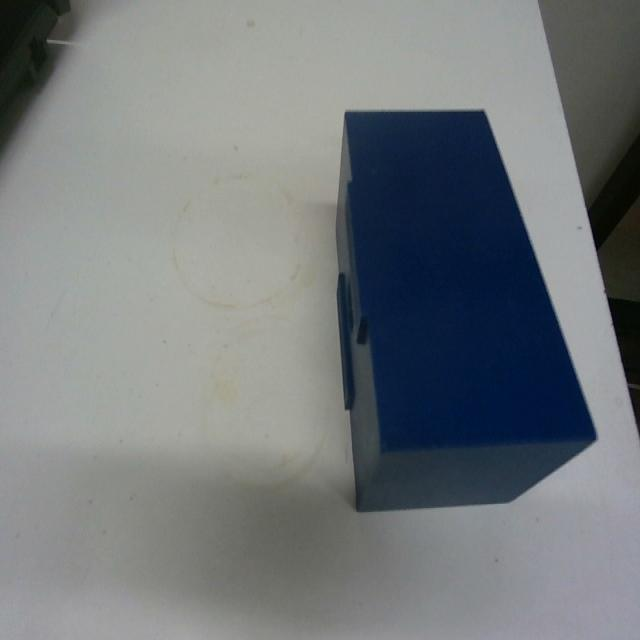Blue Cuboid: (332, 104, 598, 513)
